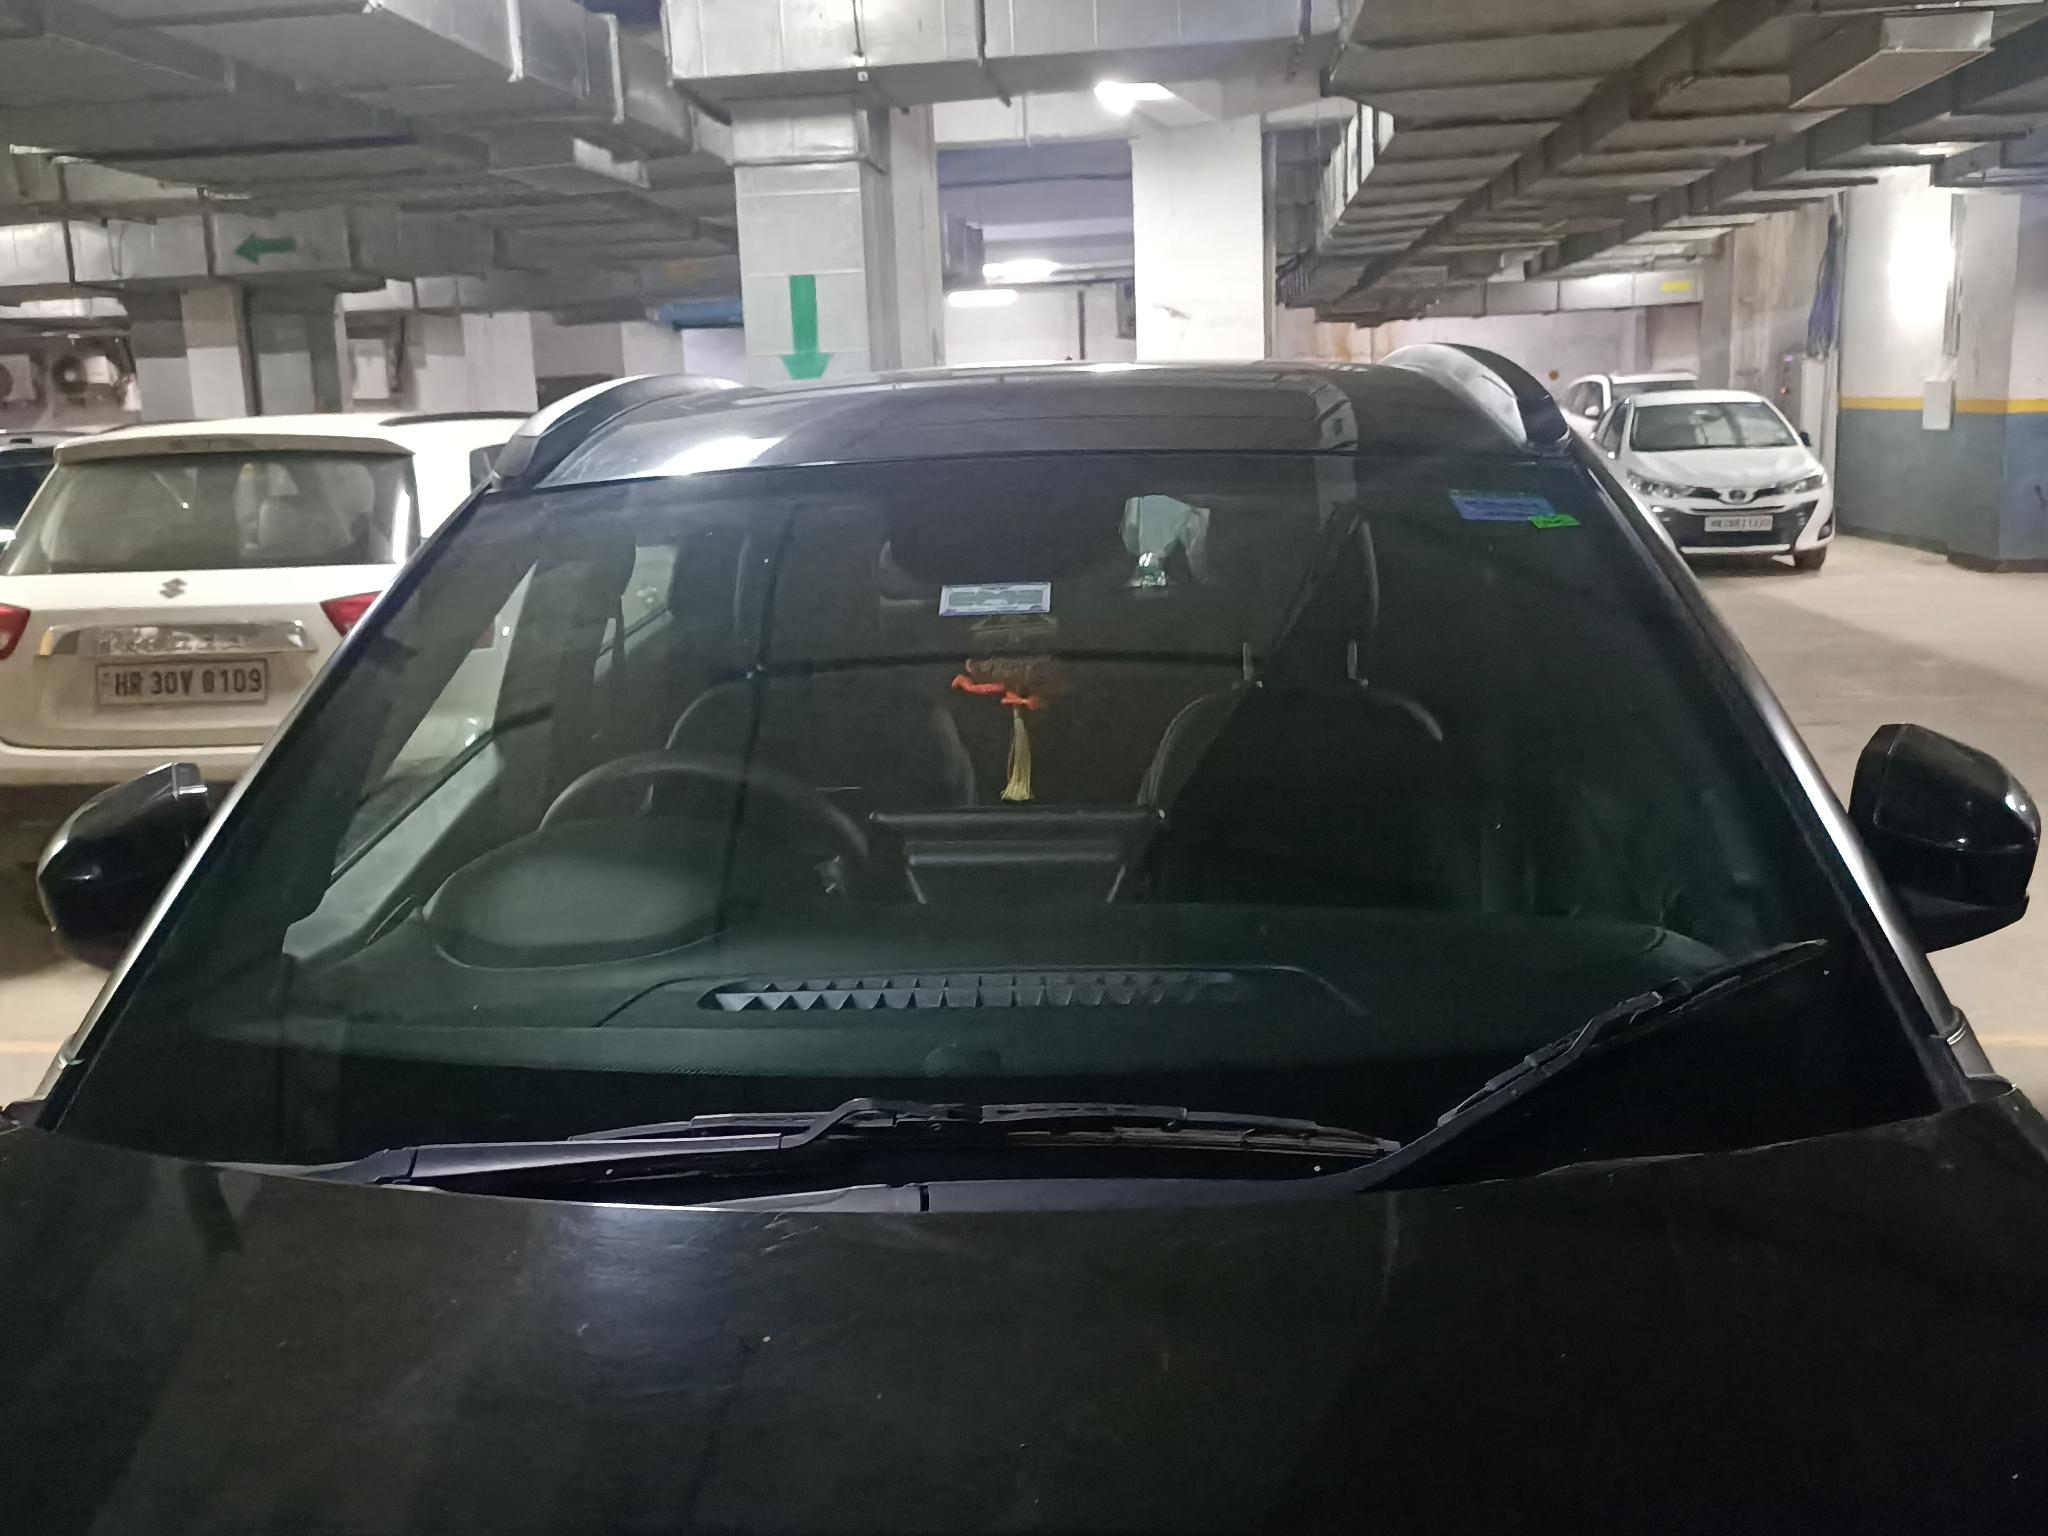FastTag: (932, 571, 1061, 642)
not a FastTag: (1442, 478, 1556, 534)
